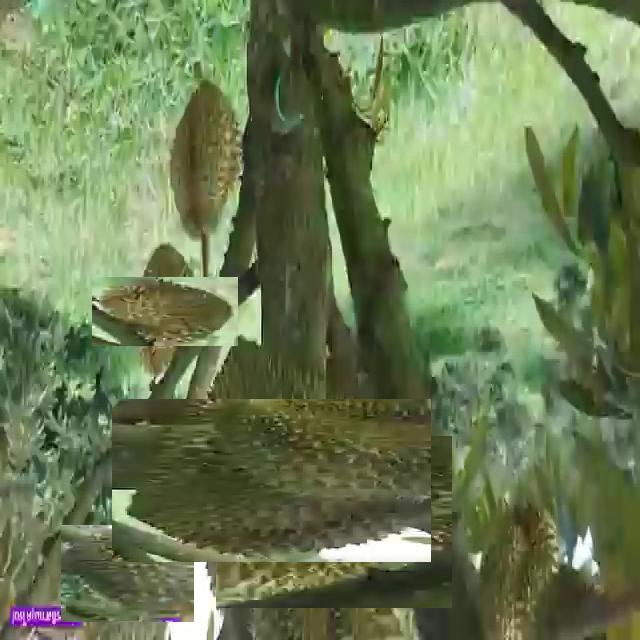durian: (150, 360, 392, 601), (232, 419, 436, 624), (473, 490, 569, 640), (166, 78, 246, 245), (69, 516, 185, 631), (112, 257, 220, 366)
